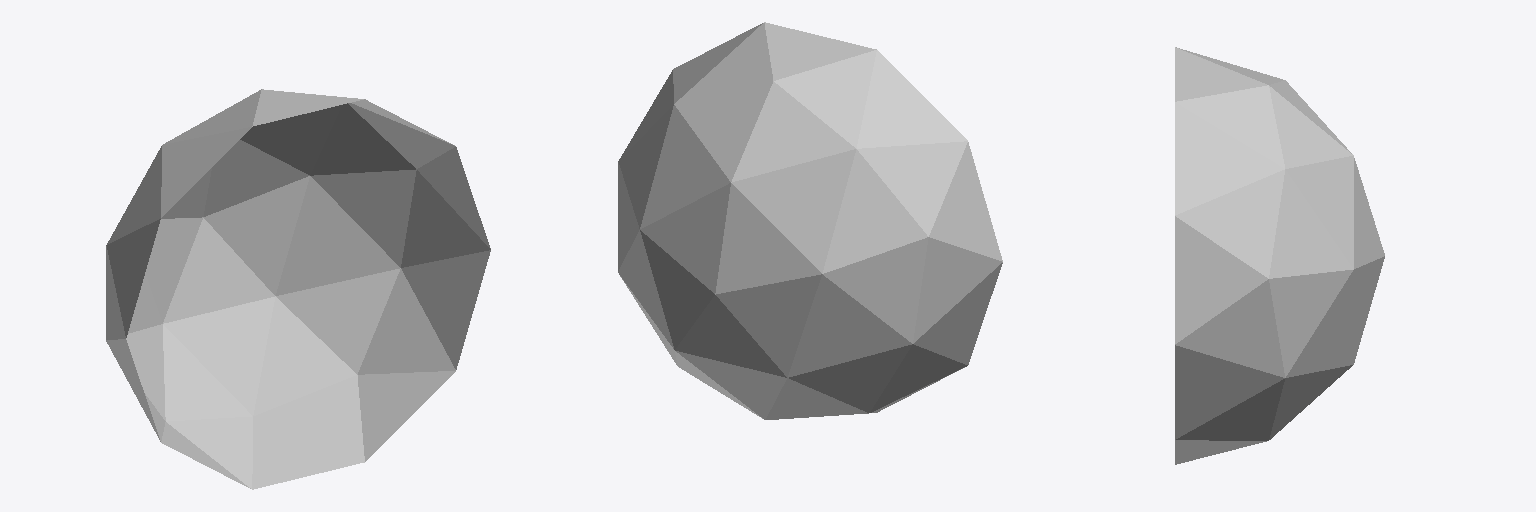
The model's file is bow.obj.
The picture shows the model from 3 angles: view 1: azimuth 30°, elevation 25°; view 2: azimuth 150°, elevation 25°; view 3: azimuth 270°, elevation 25°; orthographic projection.
Size of the model in its own units: 2 by 1.9 by 1.